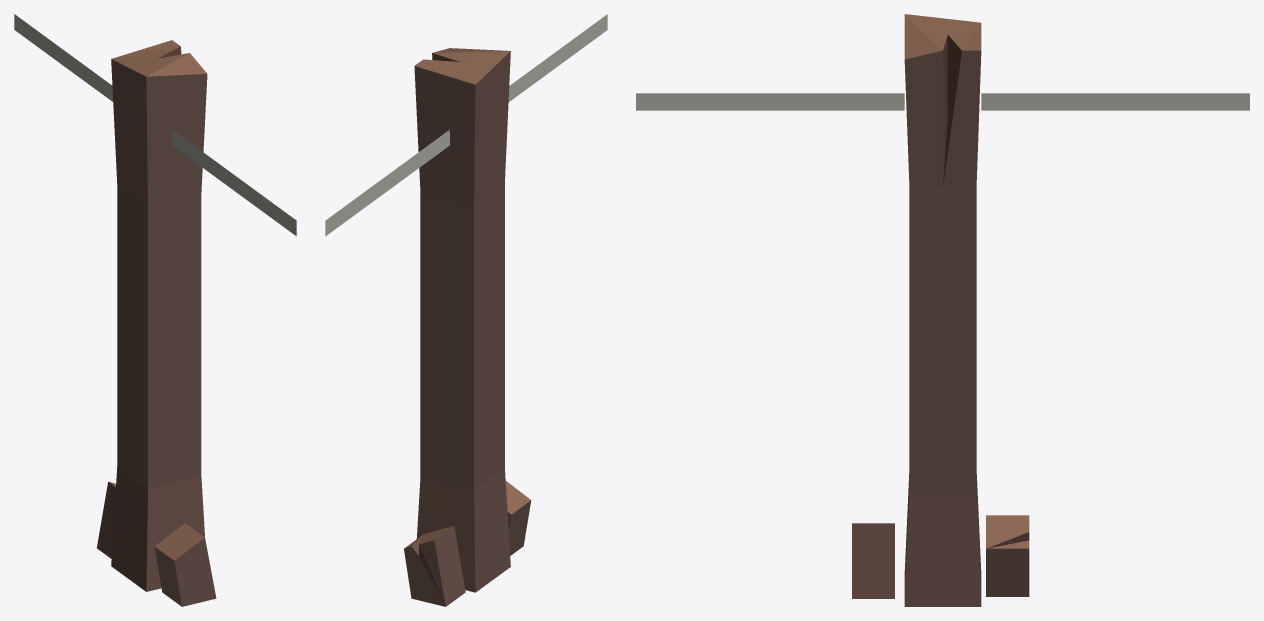
3 views of the same model, side by side, from view 1: azimuth 30°, elevation 25°; view 2: azimuth 150°, elevation 25°; view 3: azimuth 270°, elevation 25° (orthographic). The views are drawn at different scales.
Bounding box in the file's own units: 16 × 129 × 128.
Materials: 1 (1 with a texture image).
